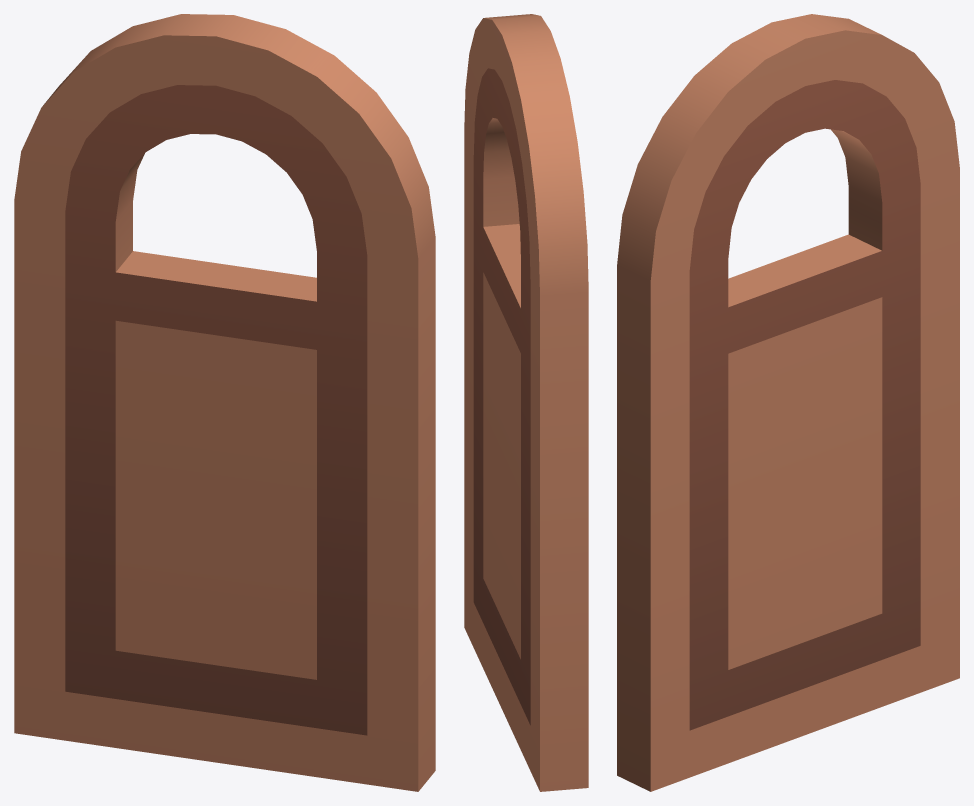
File: door.002_lev1.glb
The picture shows the model from 3 angles, left to right: view 1: azimuth 30°, elevation 25°; view 2: azimuth 150°, elevation 25°; view 3: azimuth 270°, elevation 25°; orthographic projection. The views are drawn at different scales.
Parts seen in each view (by area): view 1: door.002_lev1; view 2: door.002_lev1; view 3: door.002_lev1.
Boxes of the visible parts, bbox=[...] form: door.002_lev1: bbox=[14, 14, 435, 791]; door.002_lev1: bbox=[464, 14, 588, 791]; door.002_lev1: bbox=[617, 14, 959, 791].
Size of the model in its own units: 1.27 by 3.17 by 1.42.
1 material, 1 textured.
